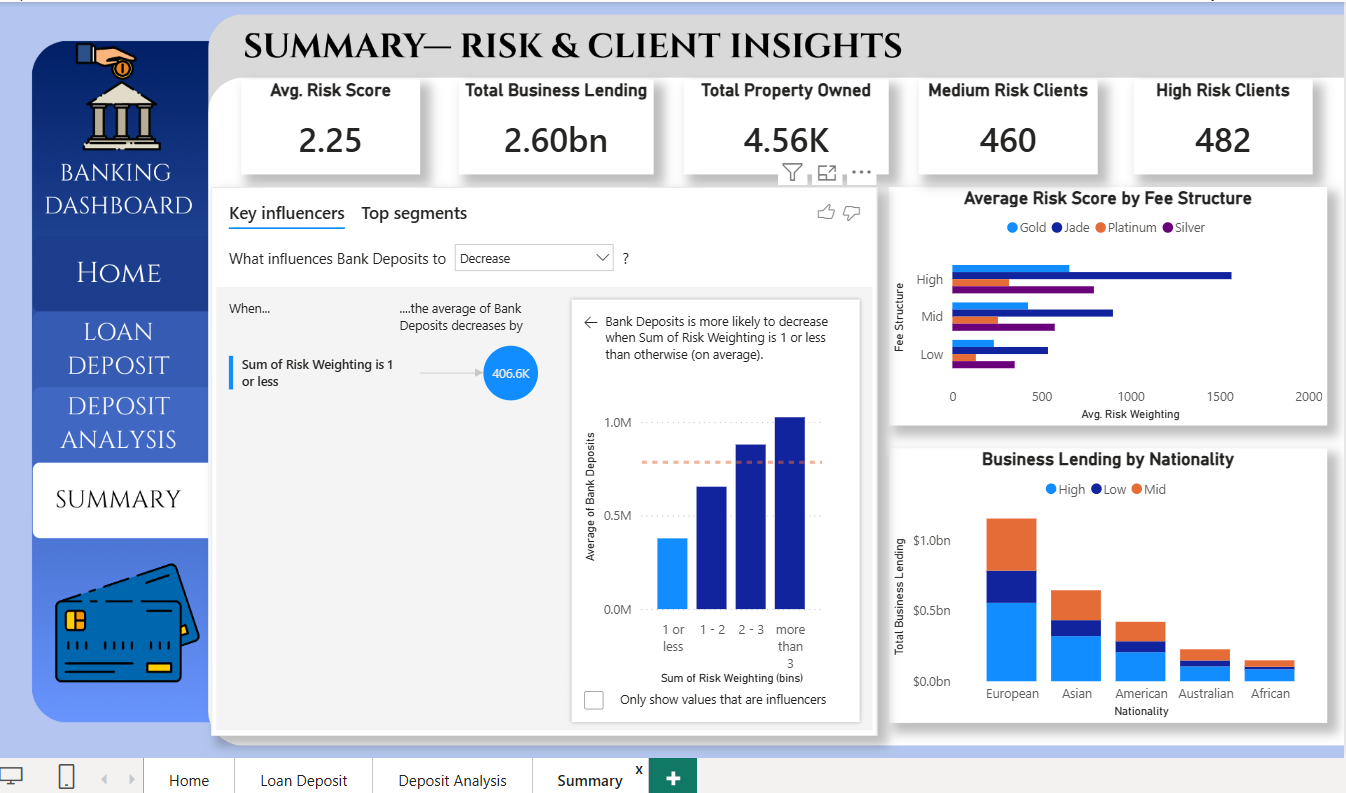

This screenshot's page, from the dashboard's own definition file:
{"tool":"powerbi","page":{"name":"Summary","canvas":[1280,720],"ordinal":3},"visuals":[{"type":"actionButton","box":[31.6,290.9,168.8,75.5],"z":0},{"type":"actionButton","box":[31.6,370.5,168.8,67.2],"z":1000},{"type":"actionButton","box":[32.9,225,168.8,65.9],"z":2000},{"type":"cardVisual","title":"Avg. Risk Score","fields":{"Data":["Avg(banking-clients.Risk Weighting)"]},"box":[229.8,73.8,170.2,90.5],"z":3000},{"type":"cardVisual","title":"Total Business Lending","fields":{"Data":["Sum(banking-clients.Business Lending)"]},"box":[436.9,73.8,185.7,90.5],"z":4000},{"type":"cardVisual","title":"Total Property Owned","fields":{"Data":["Sum(banking-clients.Properties Owned)"]},"box":[651.2,73.8,195.2,90.5],"z":5000},{"type":"cardVisual","title":"High Risk Clients","fields":{"Data":["banking-clients.high risk client"]},"box":[1079.8,73.8,170.2,90.5],"z":6000},{"type":"columnChart","title":"Business Lending by Nationality","fields":{"Category":["banking-clients.Nationality"],"Y":["Sum(banking-clients.Business Lending)"],"Series":["banking-clients.Fee Structure"]},"box":[846.4,425,417.9,261.9],"z":7000},{"type":"clusteredBarChart","title":"Average Risk Score by Fee Structure","fields":{"Category":["banking-clients.Fee Structure"],"Y":["Sum(banking-clients.Risk Weighting)"],"Series":["banking-clients.Loyalty Classification"]},"box":[846.4,176.2,417.9,227.4],"z":8000},{"type":"cardVisual","title":"Medium Risk Clients","fields":{"Data":["banking-clients.medium risk"]},"box":[875,73.8,170.2,90.5],"z":9000},{"type":"keyDriversVisual","fields":{"Target":["banking-clients.Bank Deposits"],"ExplainBy":["banking-clients.Loyalty Classification","banking-clients.Fee Structure","banking-clients.Nationality","banking-clients.Age Group","Sum(banking-clients.Risk Weighting)","Sum(banking-clients.Properties Owned)"]},"box":[201.2,176.2,634.5,522.6],"z":10000}]}

Visuals, with their boxes on the page's 1280x720 design canvas (x1, y1, x2, y2). These are canvas units, not pixel positions in the 1346x793 screenshot, which may show the page scaled, cropped or inside an application window:
actionButton: (32, 291, 200, 366)
actionButton: (32, 370, 200, 438)
actionButton: (33, 225, 202, 291)
"Avg. Risk Score" cardVisual: (230, 74, 400, 164)
"Total Business Lending" cardVisual: (437, 74, 623, 164)
"Total Property Owned" cardVisual: (651, 74, 846, 164)
"High Risk Clients" cardVisual: (1080, 74, 1250, 164)
"Business Lending by Nationality" columnChart: (846, 425, 1264, 687)
"Average Risk Score by Fee Structure" clusteredBarChart: (846, 176, 1264, 404)
"Medium Risk Clients" cardVisual: (875, 74, 1045, 164)
keyDriversVisual - banking-clients.Bank Deposits x banking-clients.Loyalty Classification: (201, 176, 836, 699)
